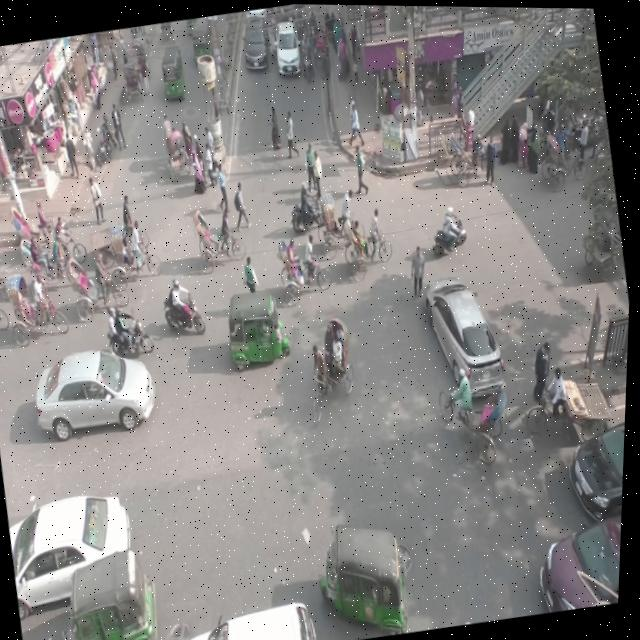cng: (313, 503, 424, 640), (56, 544, 178, 640), (221, 268, 299, 383), (154, 40, 191, 105)
rikshaw: (432, 344, 521, 466), (301, 301, 369, 428), (265, 218, 342, 312), (4, 260, 74, 353), (65, 242, 141, 326), (183, 199, 261, 277), (147, 104, 207, 198), (338, 196, 405, 276), (103, 206, 168, 282), (16, 229, 80, 295), (310, 176, 362, 257), (7, 189, 64, 259), (307, 19, 339, 83)
